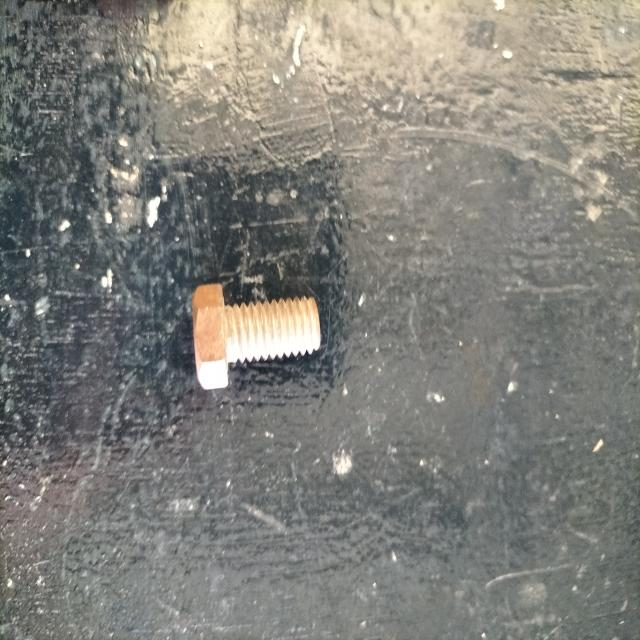bolt: (192, 283, 320, 391)
